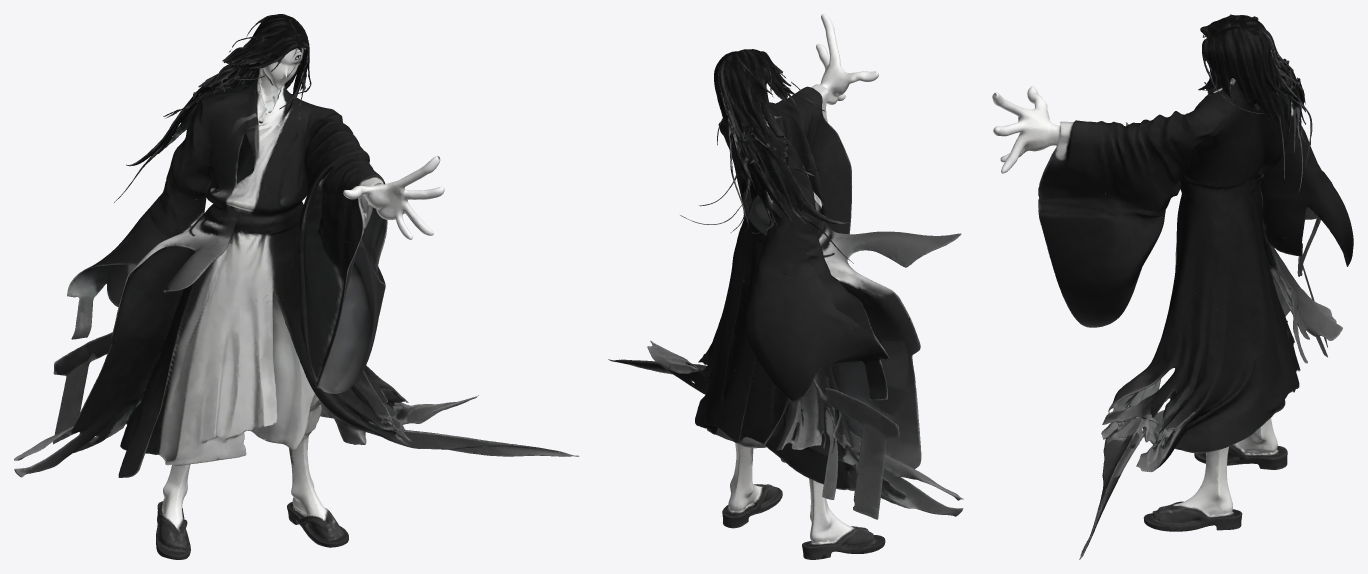
File: character.min.glb
3 views of the same model, side by side, from view 1: azimuth 30°, elevation 25°; view 2: azimuth 150°, elevation 25°; view 3: azimuth 270°, elevation 25° (orthographic). The views are drawn at different scales.
Size of the model in its own units: 1.85 by 1.89 by 1.23.
Materials: 1 (1 with a texture image).
